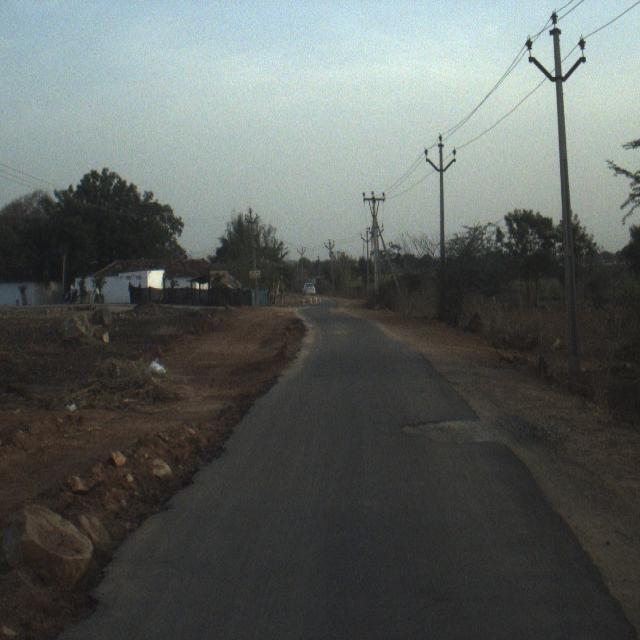pothole: (402, 400, 489, 468), (54, 581, 126, 640)
